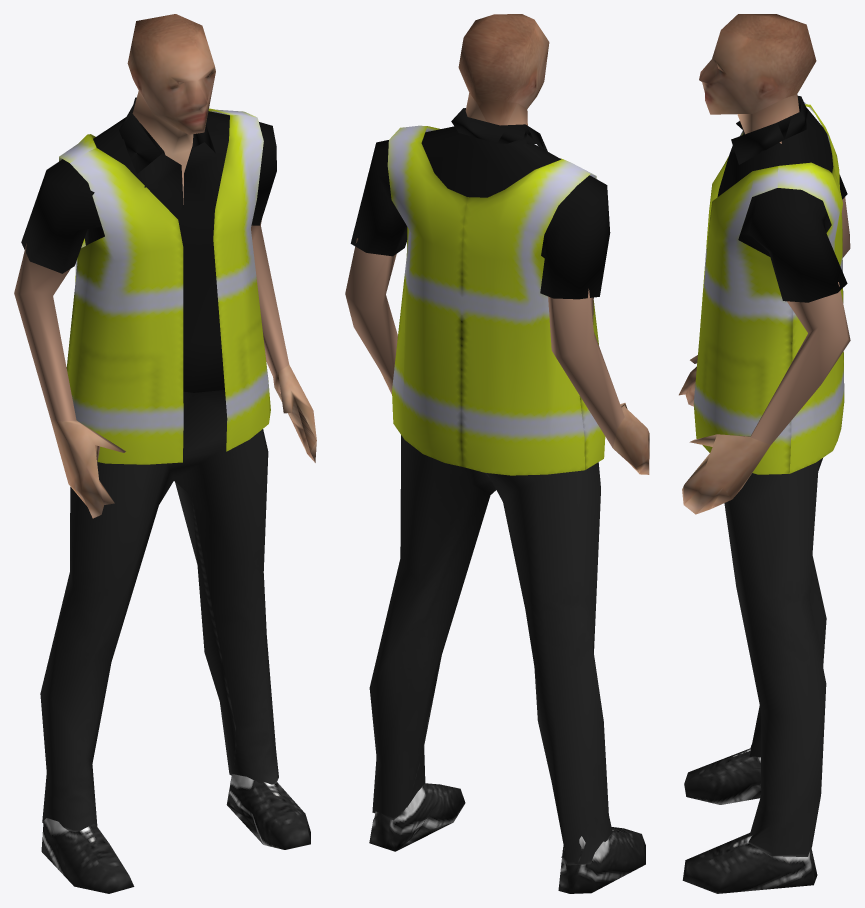
The model's file is LOW_Marshall04_TW.fbx.
3 renders of one model, left to right at view 1: azimuth 30°, elevation 25°; view 2: azimuth 150°, elevation 25°; view 3: azimuth 270°, elevation 25°, orthographic.
Parts seen in each view (by area): view 1: LOW_Marshall04_TW; view 2: LOW_Marshall04_TW; view 3: LOW_Marshall04_TW.
Boxes of the visible parts, left/top/right/bottom form: LOW_Marshall04_TW: left=14, top=14, right=316, bottom=893; LOW_Marshall04_TW: left=345, top=14, right=649, bottom=893; LOW_Marshall04_TW: left=679, top=14, right=850, bottom=893.
Bounding box in the file's own units: 54.17 × 179 × 33.92.
